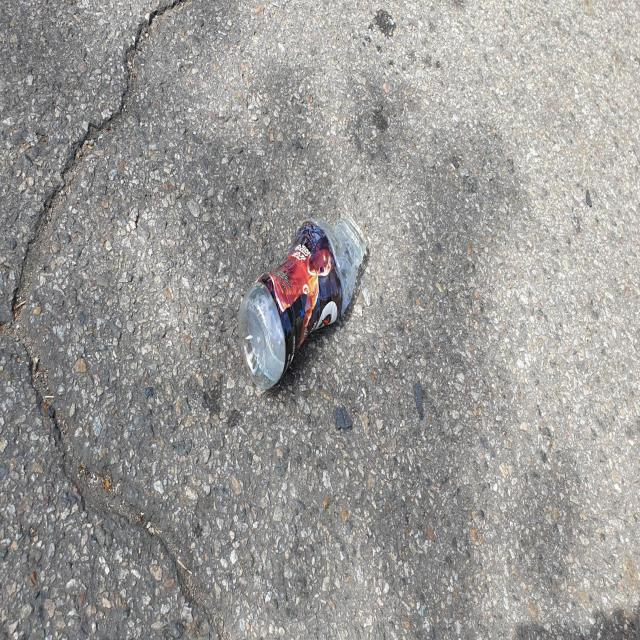plastic: (238, 214, 367, 391)
